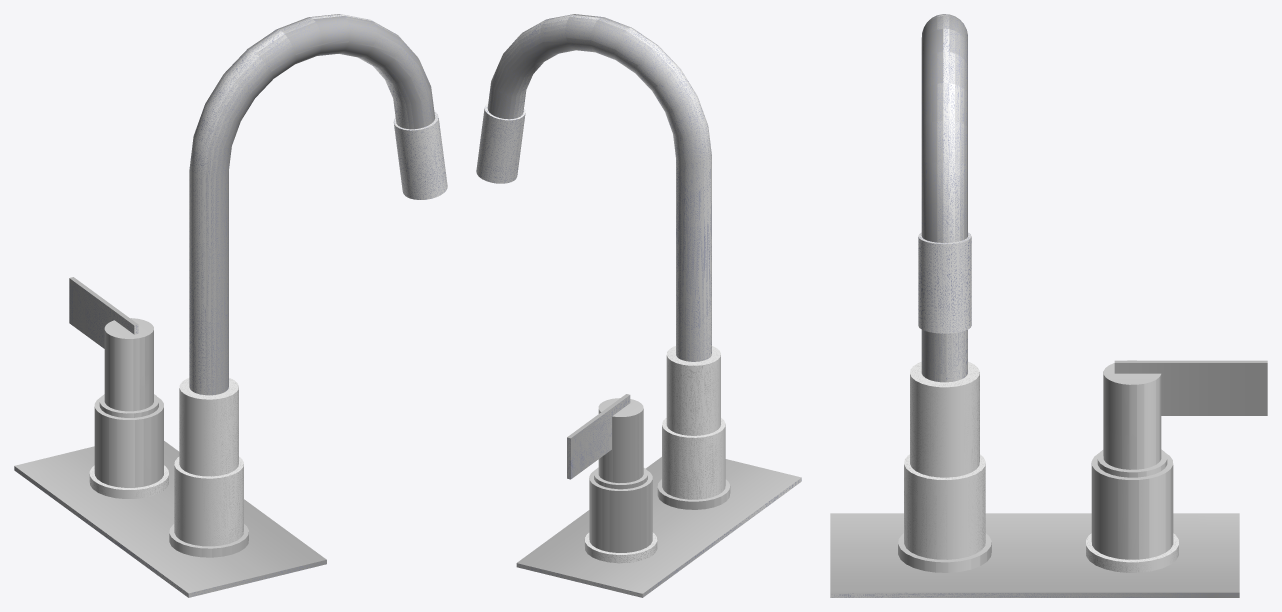
3 views of the same model, side by side, from view 1: azimuth 30°, elevation 25°; view 2: azimuth 150°, elevation 25°; view 3: azimuth 270°, elevation 25° (orthographic). The views are drawn at different scales.
Visible parts, largest first — view 1: SketchUp (×11); view 2: SketchUp (×12); view 3: SketchUp (×11).
Boxes of the visible parts, x1=… form: SketchUp (×11): x1=14, y1=14, x2=447, y2=597; SketchUp (×12): x1=476, y1=14, x2=801, y2=597; SketchUp (×11): x1=830, y1=14, x2=1267, y2=597.
Bounding box in the file's own units: 8.82 × 9.33 × 13.86.
Materials: 3 (1 with a texture image).
